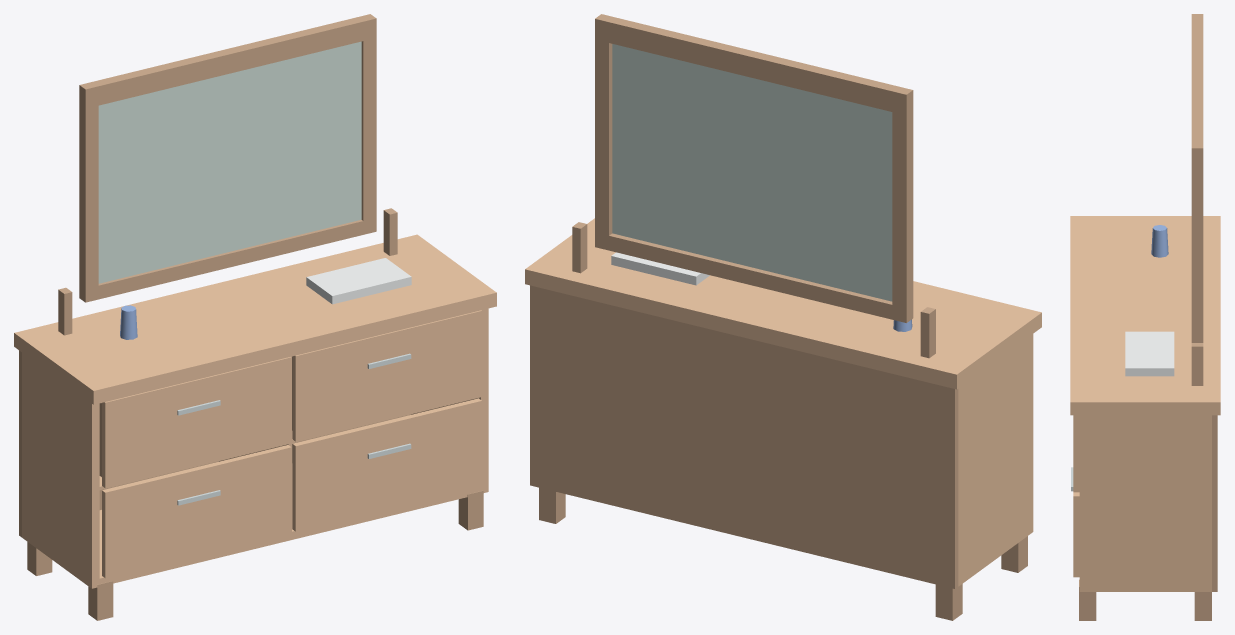
File: dresserMirror.glb
The picture shows the model from 3 angles, left to right: view 1: azimuth 30°, elevation 25°; view 2: azimuth 150°, elevation 25°; view 3: azimuth 270°, elevation 25°; orthographic projection. The views are drawn at different scales.
Visible parts, largest first — view 1: dresserMirror, anim:drawer1, anim:drawer2; view 2: dresserMirror; view 3: dresserMirror, anim:drawer2.
Boxes of the visible parts, box(x1,y1,x2,y2) form: dresserMirror: box(14, 14, 496, 620); anim:drawer1: box(99, 357, 291, 488); anim:drawer2: box(292, 310, 481, 441); dresserMirror: box(525, 14, 1041, 620); dresserMirror: box(1070, 14, 1220, 620); anim:drawer2: box(1073, 415, 1079, 492).
Size of the model in its own units: 0.762 by 0.86 by 0.26.
